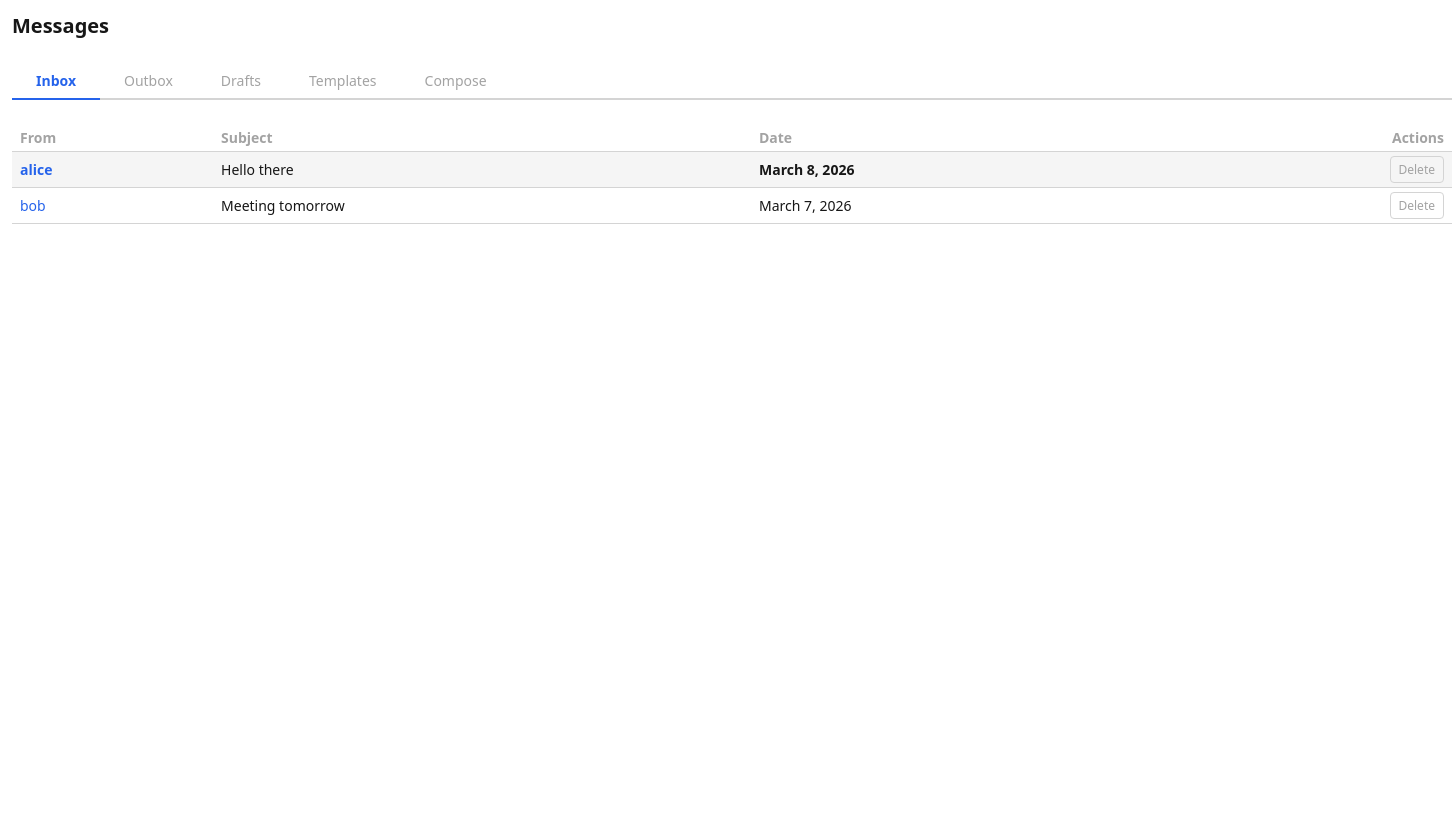
it: MessagesPage drafts & templates (BE-7.2) › Save Draft is rejected client-side when the compose form is entirely empty
Check: the button "Hello there" is shown, box [221, 160, 294, 179]
Click the button "Compose" at (456, 82), box [400, 63, 511, 100]
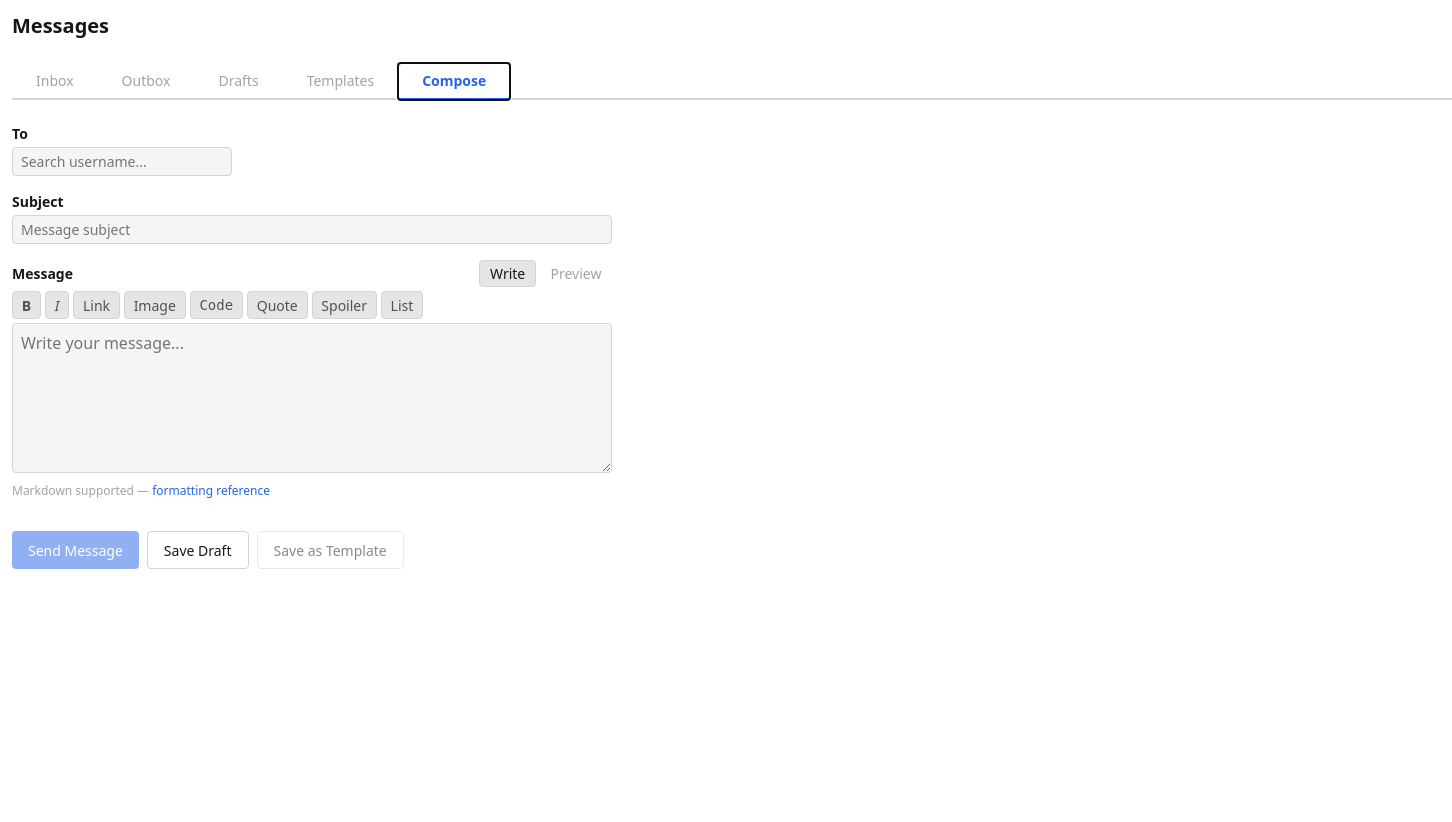
Click the button "Save Draft" at (198, 550), box [147, 531, 248, 569]
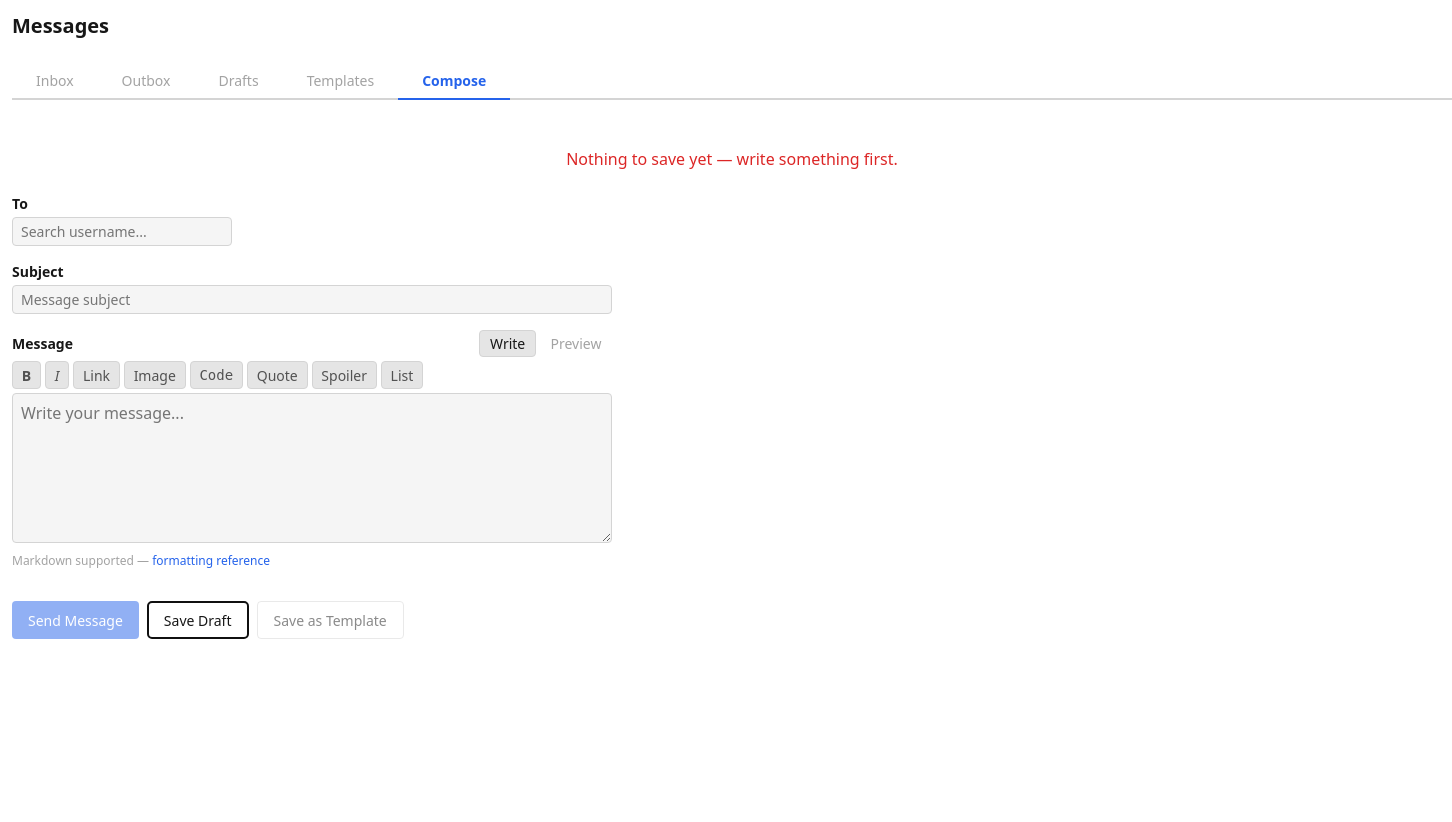
Check: the text "Nothing to save yet — write something first." is shown, box [566, 148, 898, 170]
